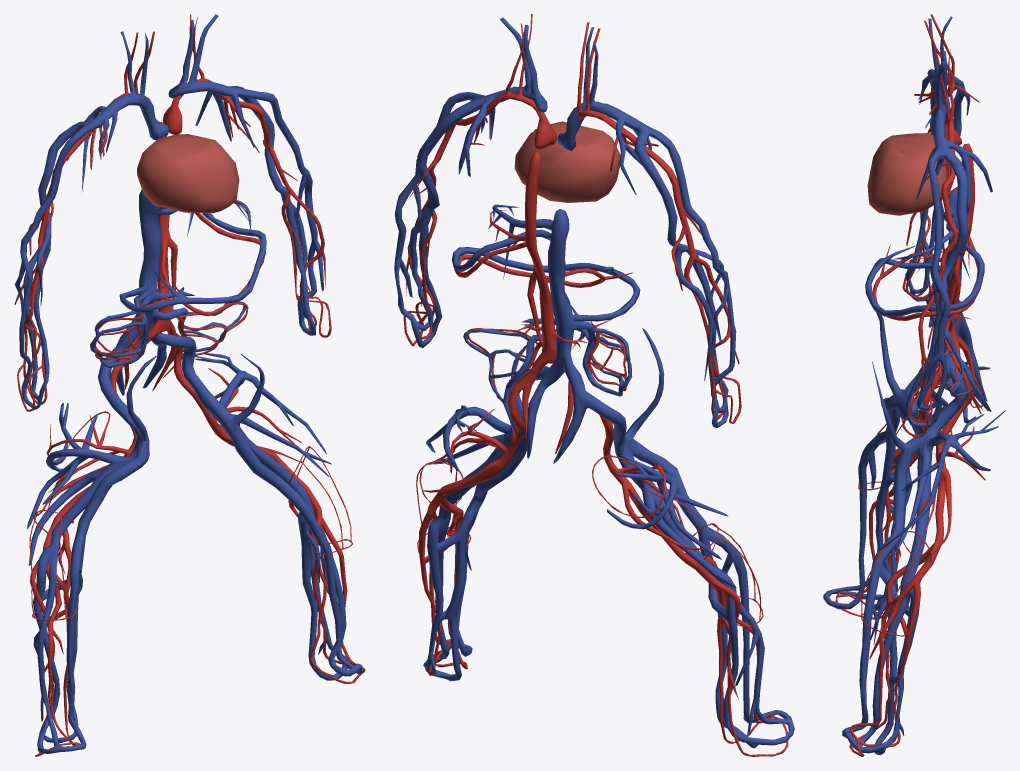
The model's file is pediatric_neonate_female.cardiovascular.LOD2.glb.
3 views of the same model, side by side, from view 1: azimuth 30°, elevation 25°; view 2: azimuth 150°, elevation 25°; view 3: azimuth 270°, elevation 25° (orthographic). The views are drawn at different scales.
Parts seen in each view (by area): view 1: PEDIATRIC.NEONATE.FEMALE.CARDIOVASCULAR.BLOOD_IN_LARGE_VEINS, PEDIATRIC.NEONATE.FEMALE.CARDIOVASCULAR.BLOOD_IN_LARGE_ARTER, PEDIATRIC.NEONATE.FEMALE.CARDIOVASCULAR.HEART_WALL; view 2: PEDIATRIC.NEONATE.FEMALE.CARDIOVASCULAR.BLOOD_IN_LARGE_VEINS, PEDIATRIC.NEONATE.FEMALE.CARDIOVASCULAR.BLOOD_IN_LARGE_ARTER, PEDIATRIC.NEONATE.FEMALE.CARDIOVASCULAR.HEART_WALL; view 3: PEDIATRIC.NEONATE.FEMALE.CARDIOVASCULAR.BLOOD_IN_LARGE_VEINS, PEDIATRIC.NEONATE.FEMALE.CARDIOVASCULAR.BLOOD_IN_LARGE_ARTER, PEDIATRIC.NEONATE.FEMALE.CARDIOVASCULAR.HEART_WALL.
Boxes of the visible parts, x1=… form: PEDIATRIC.NEONATE.FEMALE.CARDIOVASCULAR.BLOOD_IN_LARGE_VEINS: x1=14, y1=14, x2=362, y2=753; PEDIATRIC.NEONATE.FEMALE.CARDIOVASCULAR.BLOOD_IN_LARGE_ARTER: x1=14, y1=14, x2=365, y2=756; PEDIATRIC.NEONATE.FEMALE.CARDIOVASCULAR.HEART_WALL: x1=137, y1=134, x2=239, y2=213; PEDIATRIC.NEONATE.FEMALE.CARDIOVASCULAR.BLOOD_IN_LARGE_VEINS: x1=394, y1=17, x2=794, y2=748; PEDIATRIC.NEONATE.FEMALE.CARDIOVASCULAR.BLOOD_IN_LARGE_ARTER: x1=403, y1=14, x2=788, y2=756; PEDIATRIC.NEONATE.FEMALE.CARDIOVASCULAR.HEART_WALL: x1=514, y1=121, x2=620, y2=202; PEDIATRIC.NEONATE.FEMALE.CARDIOVASCULAR.BLOOD_IN_LARGE_VEINS: x1=823, y1=16, x2=1005, y2=755; PEDIATRIC.NEONATE.FEMALE.CARDIOVASCULAR.BLOOD_IN_LARGE_ARTER: x1=835, y1=14, x2=985, y2=756; PEDIATRIC.NEONATE.FEMALE.CARDIOVASCULAR.HEART_WALL: x1=867, y1=133, x2=953, y2=215.
Bounding box in the file's own units: 0.1943 × 0.3766 × 0.0947.
